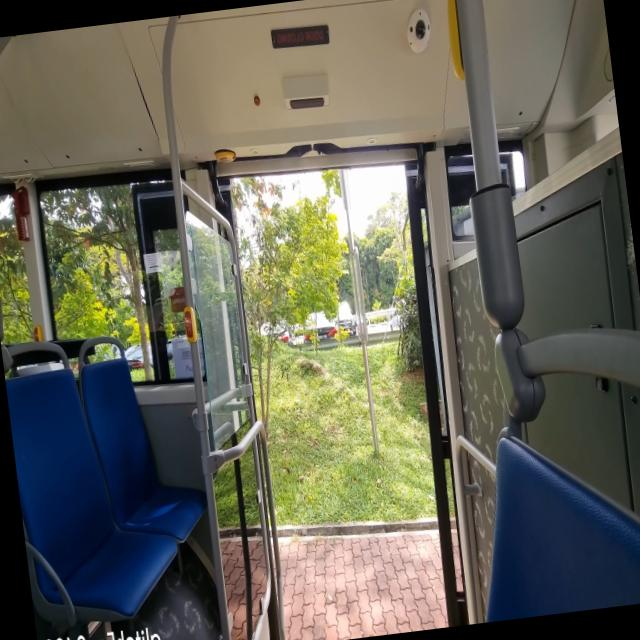bus-door: (405, 163, 468, 626)
